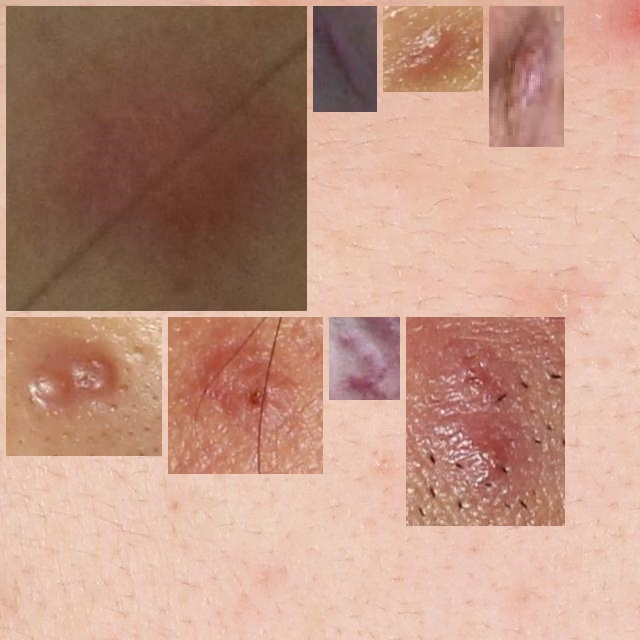nodule: (14, 14, 299, 303), (414, 325, 557, 518), (176, 325, 315, 466), (14, 325, 154, 448), (497, 14, 556, 139), (391, 14, 475, 84), (321, 14, 369, 104), (337, 325, 392, 392)
